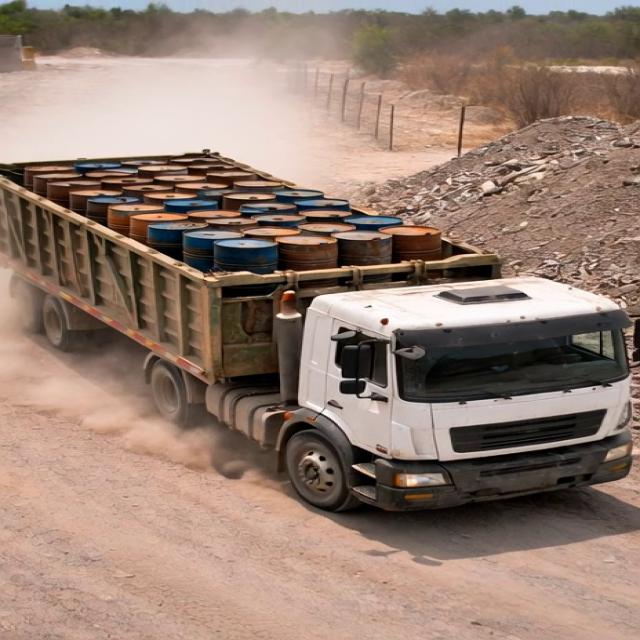trailer: (0, 149, 498, 292)
truck: (0, 89, 640, 527)
